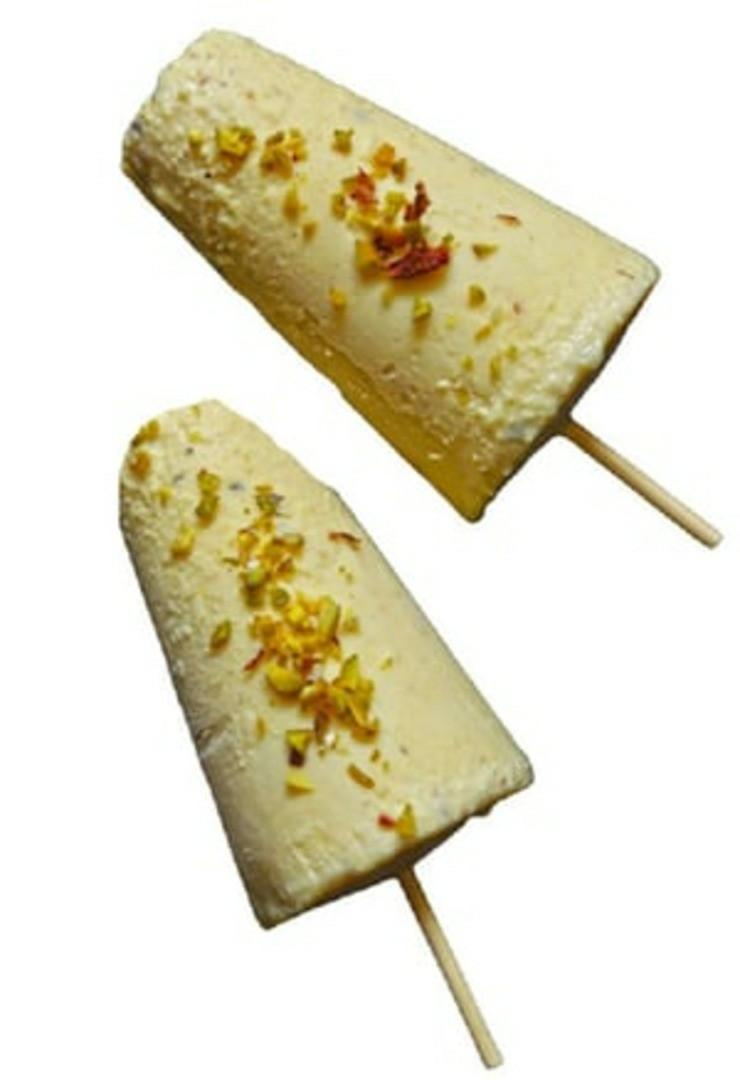Kulfi: (119, 30, 658, 519), (121, 402, 535, 930)
